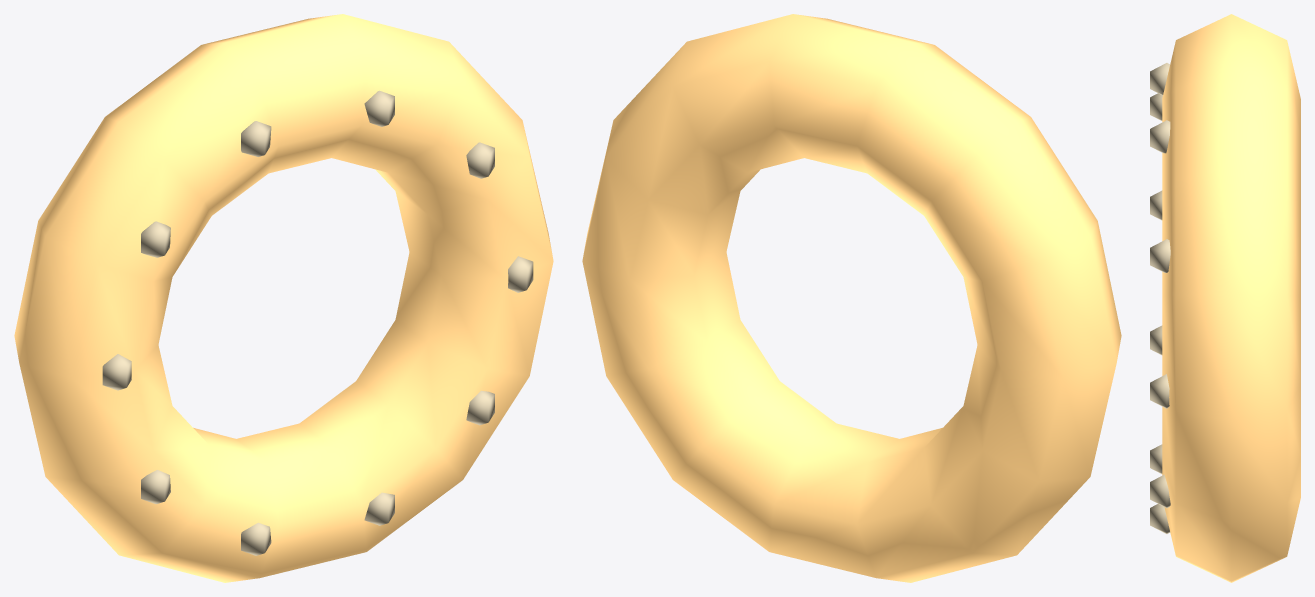
Rendered from simitring.glb.
3 views of the same model, side by side, from view 1: azimuth 30°, elevation 25°; view 2: azimuth 150°, elevation 25°; view 3: azimuth 270°, elevation 25° (orthographic). The views are drawn at different scales.
Size of the model in its own units: 0.9 by 0.8774 by 0.2332.
